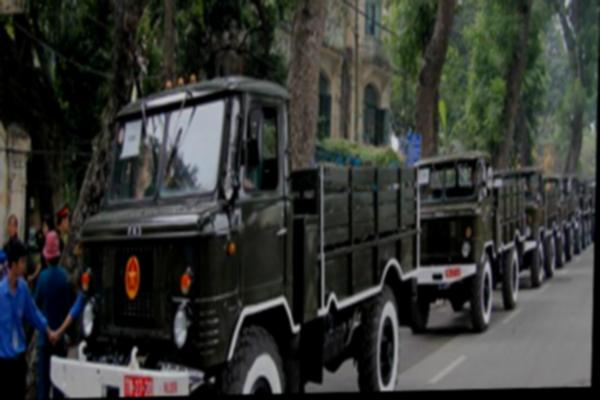License_Plate: (121, 374, 157, 396)
